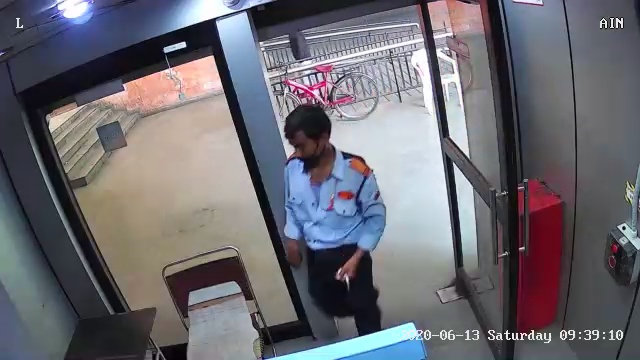open: (214, 4, 541, 353)
